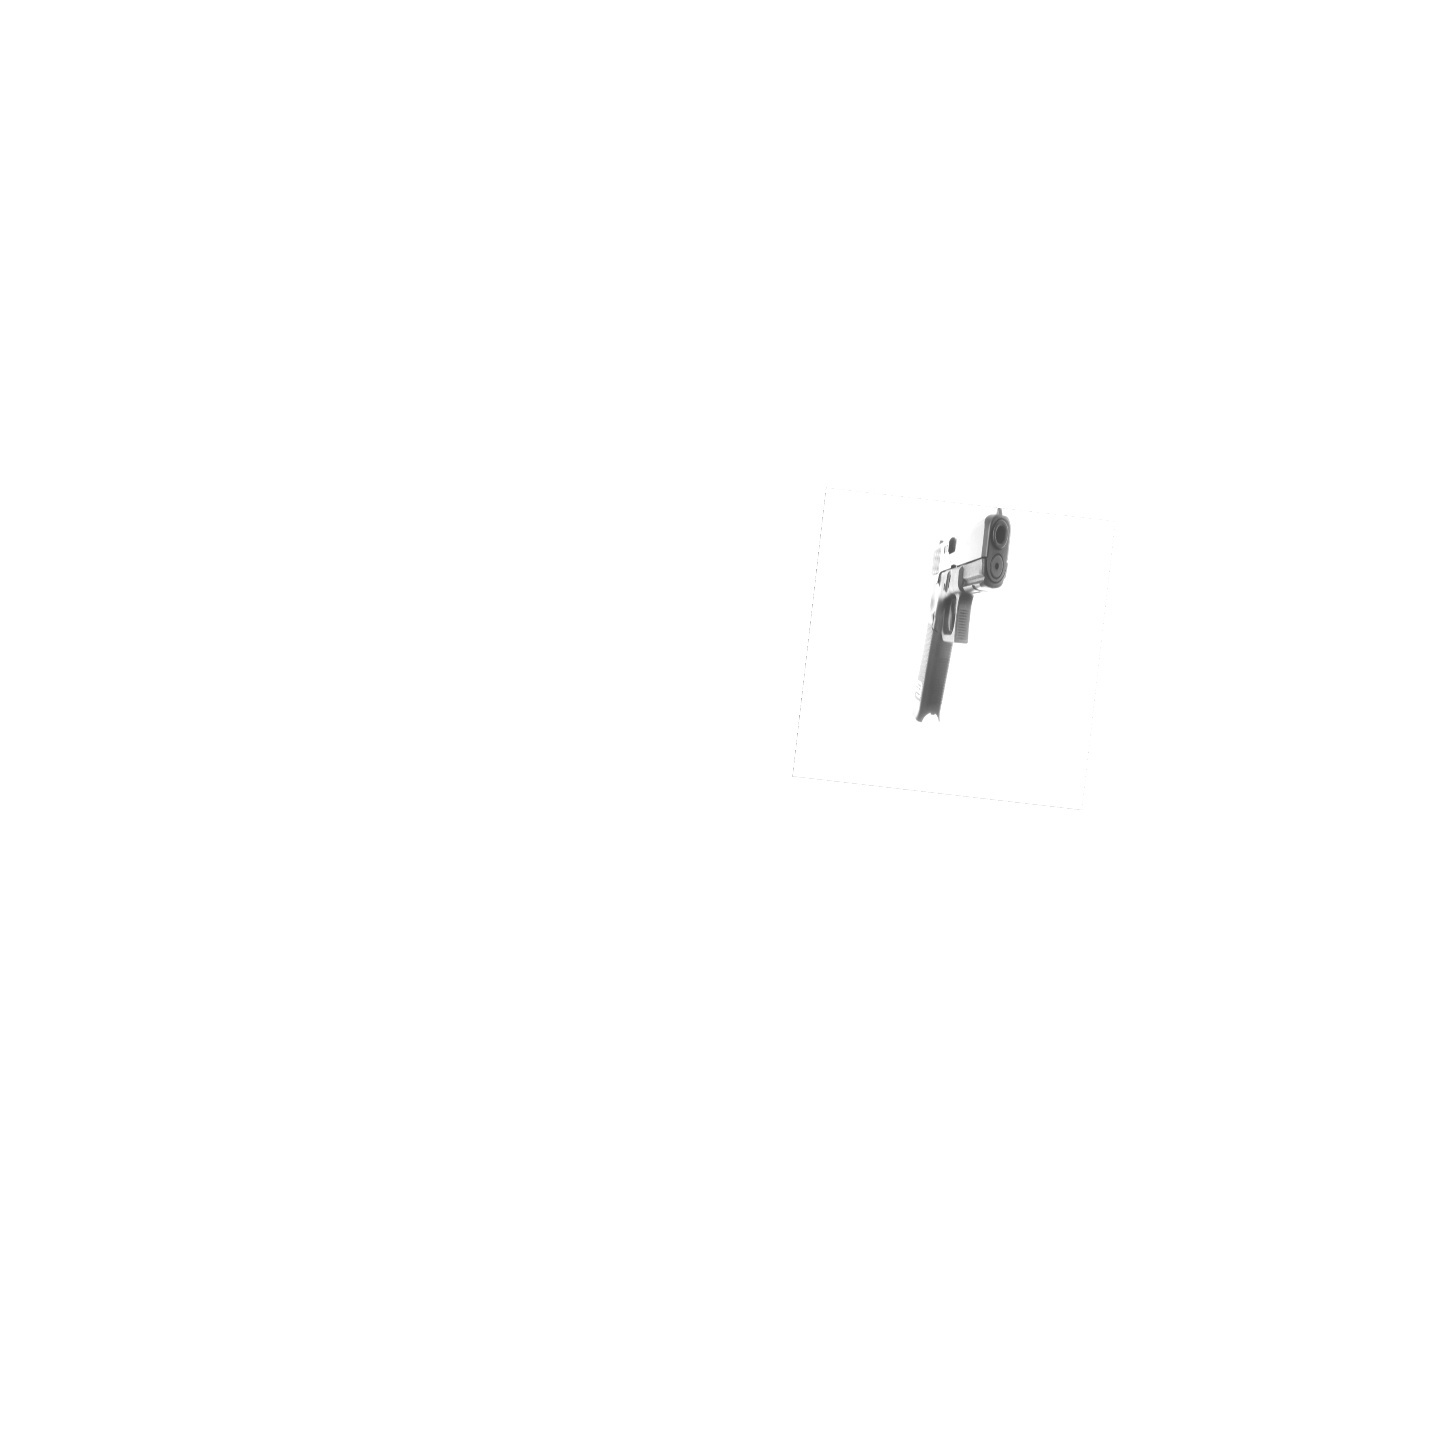gun: (913, 508, 1010, 727)
